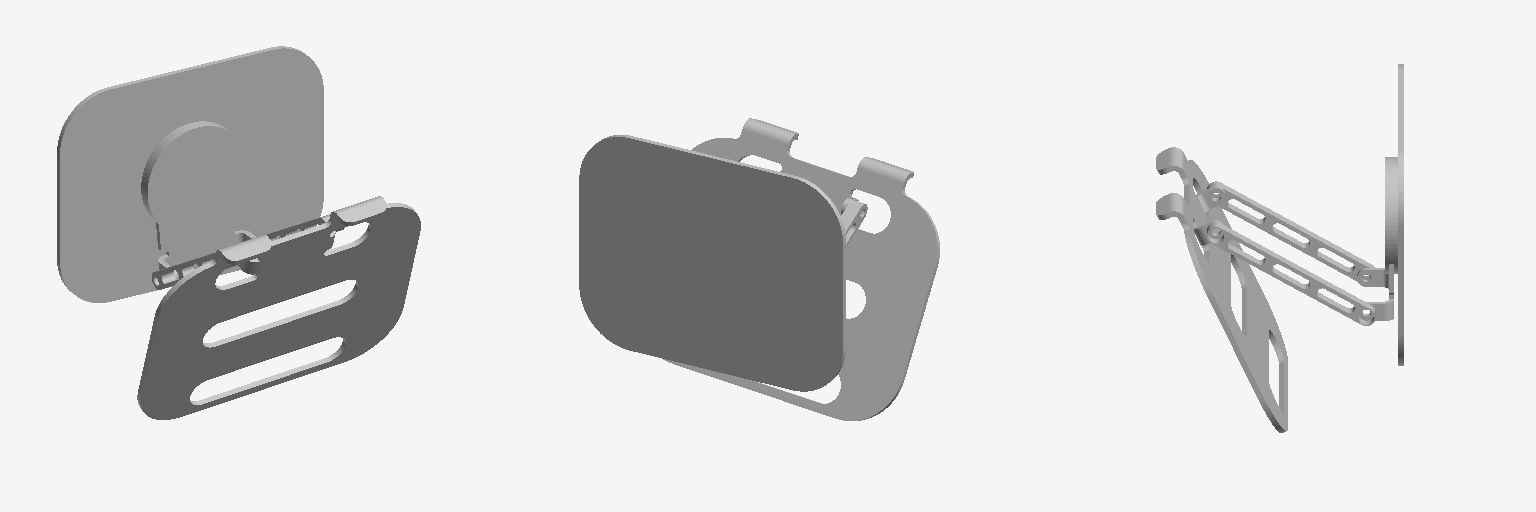
Rendered from laptop-stand.obj.
3 views of the same model, side by side, from view 1: azimuth 30°, elevation 25°; view 2: azimuth 150°, elevation 25°; view 3: azimuth 270°, elevation 25° (orthographic).
Visible parts, largest first — view 1: Body1, Body1:2, Body1:3, Body1:1, Body2:1; view 2: Body1, Body1:2, Body2:1; view 3: Body1:2, Body2, Body2:1, Body1, Body1:1.
Boxes of the visible parts, box(x1,y1,x2,y2) form: Body1: box(57, 46, 323, 302); Body1:2: box(137, 196, 420, 419); Body1:3: box(146, 125, 248, 234); Body1:1: box(143, 123, 255, 279); Body2:1: box(152, 253, 239, 289); Body1: box(579, 135, 845, 391); Body1:2: box(663, 118, 939, 420); Body2:1: box(841, 200, 867, 247); Body1:2: box(1156, 147, 1287, 432); Body2: box(1207, 222, 1375, 325); Body2:1: box(1207, 181, 1374, 281); Body1: box(1398, 64, 1403, 365); Body1:1: box(1357, 157, 1393, 320).
Size of the model in its own units: 135 by 136 by 106.